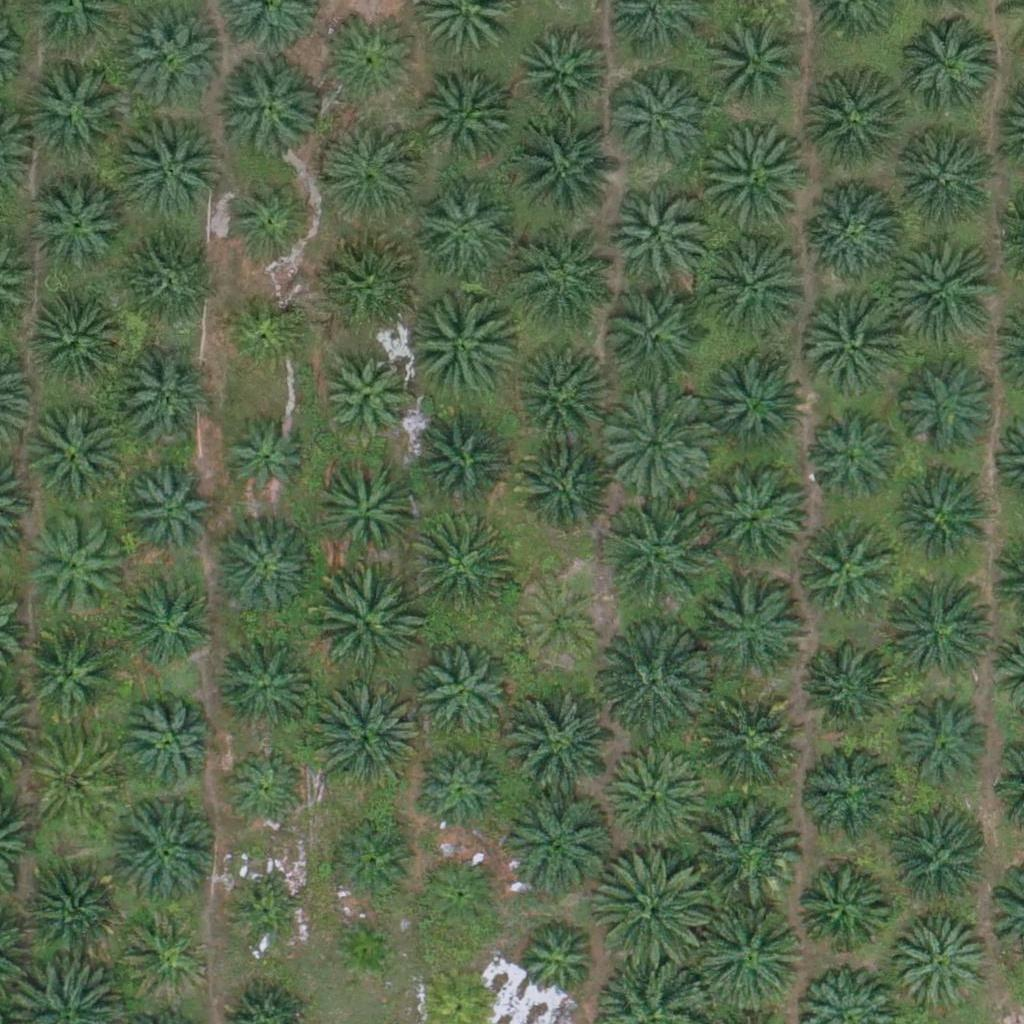Kelapa_Sawit: (597, 501, 710, 615), (398, 287, 511, 400), (697, 125, 810, 238), (889, 232, 1002, 345), (690, 794, 803, 907), (597, 627, 710, 740), (307, 680, 420, 793), (308, 568, 421, 681), (895, 122, 1007, 236), (693, 895, 805, 1009), (595, 847, 707, 961), (20, 56, 132, 169), (114, 114, 226, 227), (318, 114, 430, 227), (507, 114, 619, 227), (598, 386, 710, 499), (699, 229, 811, 342), (885, 572, 997, 685), (406, 510, 518, 623), (108, 794, 220, 907), (504, 693, 616, 806), (499, 786, 611, 899), (31, 290, 131, 391), (31, 173, 131, 274), (115, 237, 215, 338), (120, 346, 220, 447), (218, 57, 318, 158), (330, 233, 430, 334), (412, 180, 512, 281), (403, 409, 503, 510), (506, 340, 606, 441), (516, 240, 616, 341), (610, 67, 710, 168), (607, 183, 707, 284), (705, 348, 805, 449), (706, 14, 806, 115), (800, 71, 900, 172), (806, 179, 906, 280), (805, 304, 905, 405), (898, 356, 998, 457), (905, 15, 1005, 116), (892, 915, 992, 1016), (790, 860, 890, 961), (892, 468, 992, 569), (606, 748, 706, 849), (411, 642, 511, 743), (315, 461, 415, 562), (213, 521, 313, 622), (215, 634, 315, 735), (117, 693, 217, 794), (23, 511, 123, 612), (20, 621, 120, 722), (27, 404, 127, 504), (418, 66, 518, 166), (600, 290, 700, 390), (21, 864, 121, 964), (890, 817, 990, 917), (890, 693, 990, 793), (802, 738, 902, 838), (794, 518, 894, 618), (799, 634, 899, 734), (705, 467, 805, 567), (705, 584, 805, 684), (697, 697, 797, 797), (507, 437, 607, 537), (26, 730, 126, 830), (224, 285, 312, 373), (224, 172, 312, 260), (319, 353, 407, 441), (415, 849, 503, 937), (516, 580, 604, 668), (220, 747, 308, 835), (123, 579, 211, 667), (122, 470, 210, 558), (417, 745, 504, 834), (219, 417, 306, 505), (328, 16, 415, 104), (517, 25, 604, 113), (808, 413, 895, 501), (123, 912, 210, 1000), (511, 917, 598, 1005), (326, 819, 413, 907), (326, 911, 401, 987), (232, 882, 307, 957)
